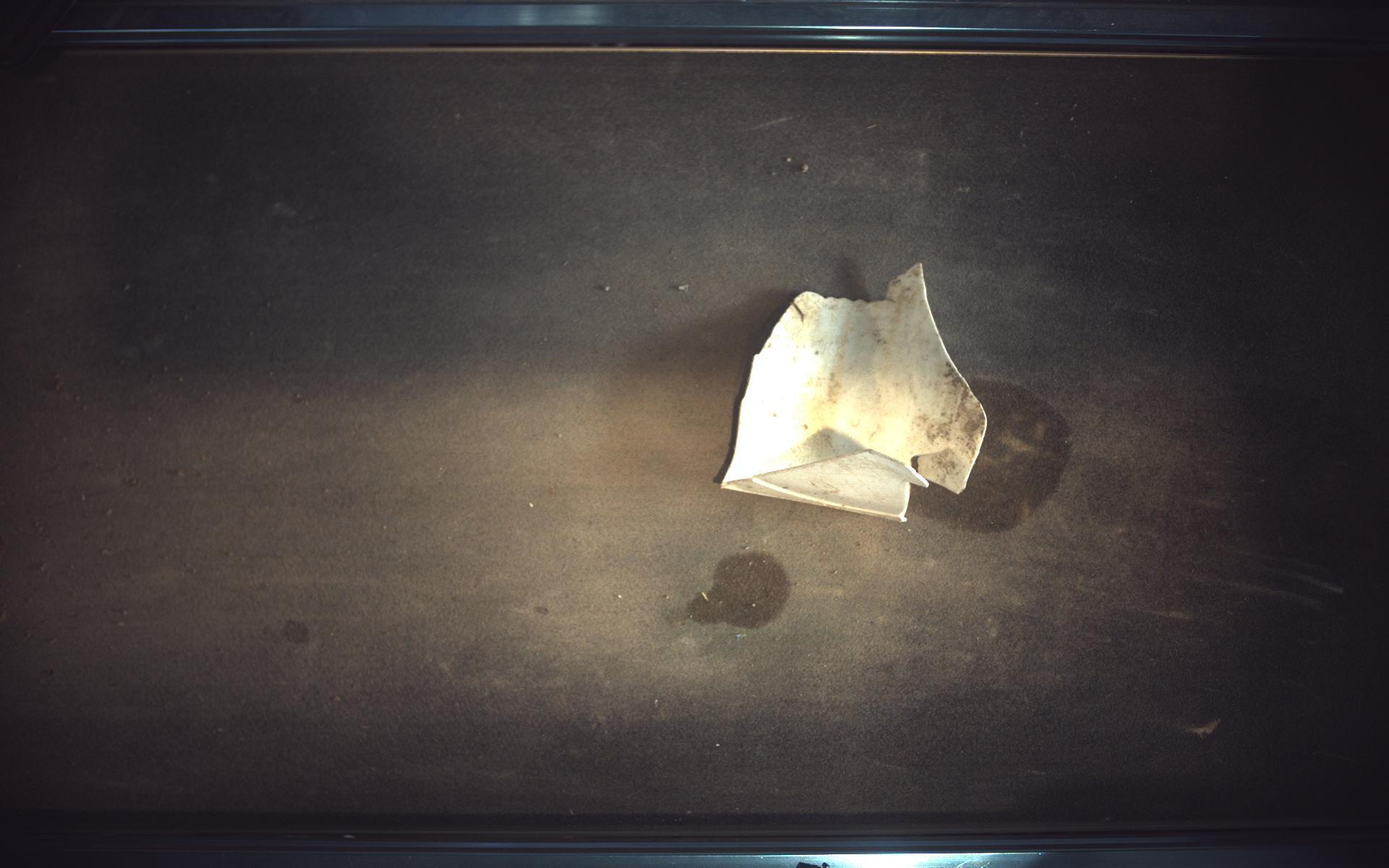plastic: (723, 263, 989, 522)
